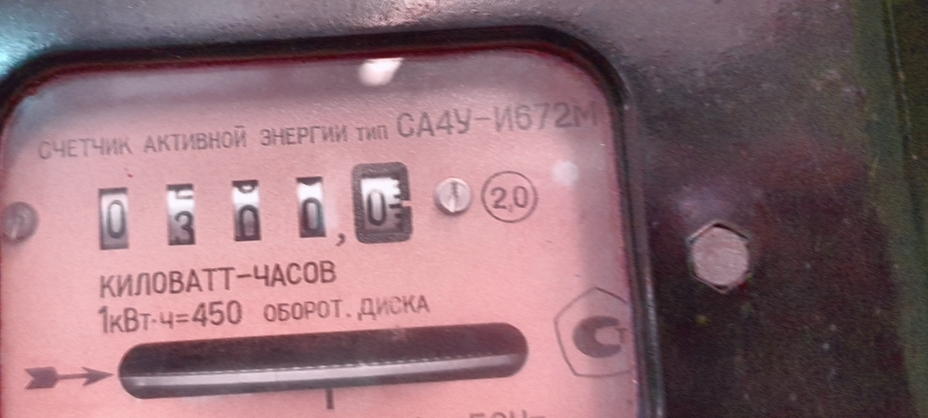0: (101, 193, 128, 241), (297, 191, 325, 237), (361, 183, 388, 227), (234, 199, 260, 242)
3: (169, 205, 195, 245)
screen: (73, 140, 434, 280)
